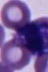D: (16, 18, 48, 55)
